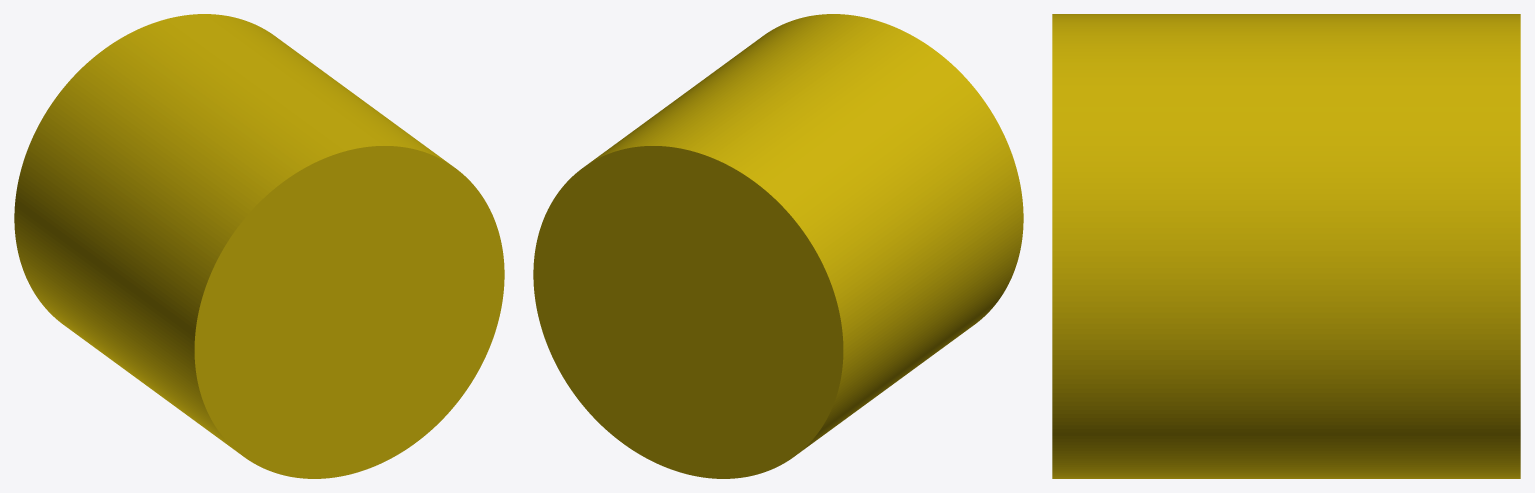
Rendered from yellow.obj.
3 renders of one model, left to right at view 1: azimuth 30°, elevation 25°; view 2: azimuth 150°, elevation 25°; view 3: azimuth 270°, elevation 25°, orthographic. The views are drawn at different scales.
Visible parts, largest first — view 1: yellow1; view 2: yellow1; view 3: yellow1.
Boxes of the visible parts, x1,y1,x2,y2 form: yellow1: (14,14,504,478); yellow1: (533,14,1023,478); yellow1: (1052,14,1520,478).
Bounding box in the file's own units: 0.3684 × 0.3684 × 0.3707.
